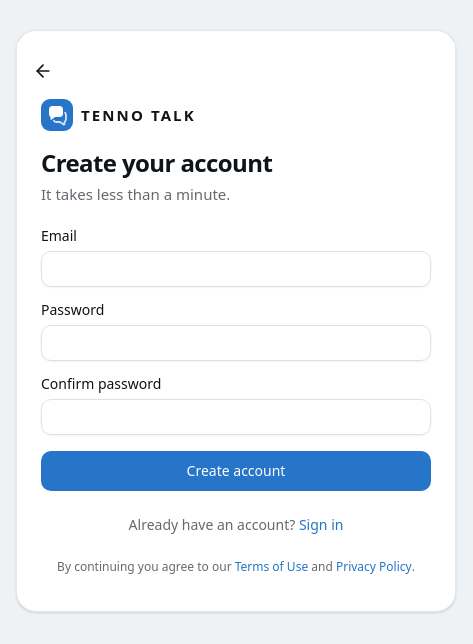
email + password › shows the server error for a duplicate email
Type "linh@demo.tenno.talk" into the field labelled "Email". click: {"x": 236, "y": 269}
box: [41,251,431,287]
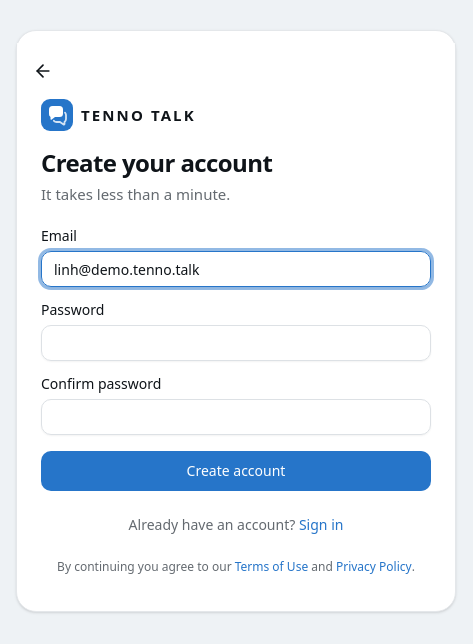
Type "secret123" into the password field labelled "Password". click: {"x": 236, "y": 343}
box: [41,325,431,361]
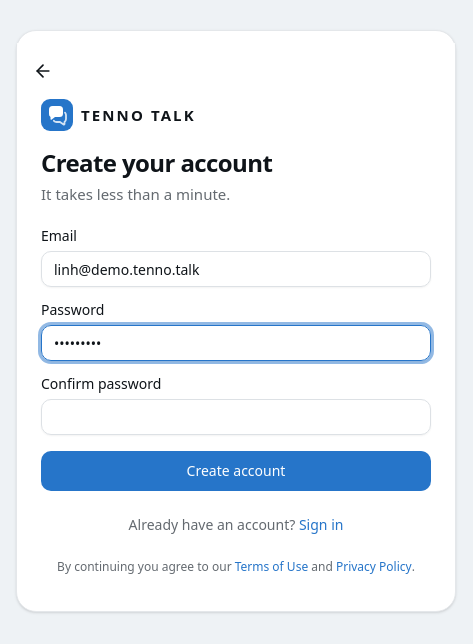
Type "secret123" into the password field labelled "Confirm password". click: {"x": 236, "y": 417}
box: [41,399,431,435]
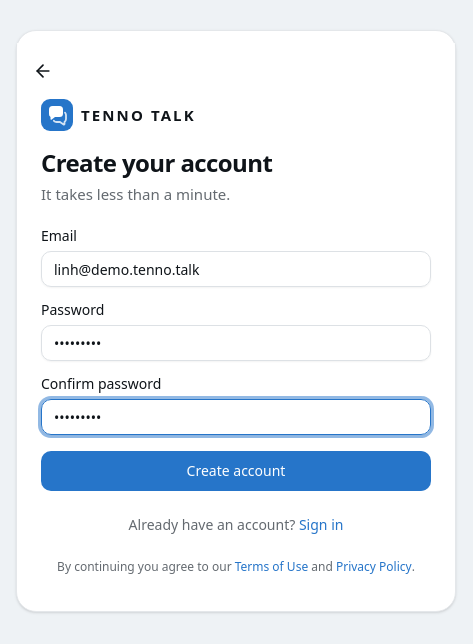
Click the button "Create account". click: {"x": 236, "y": 471}
box: [41,451,431,491]
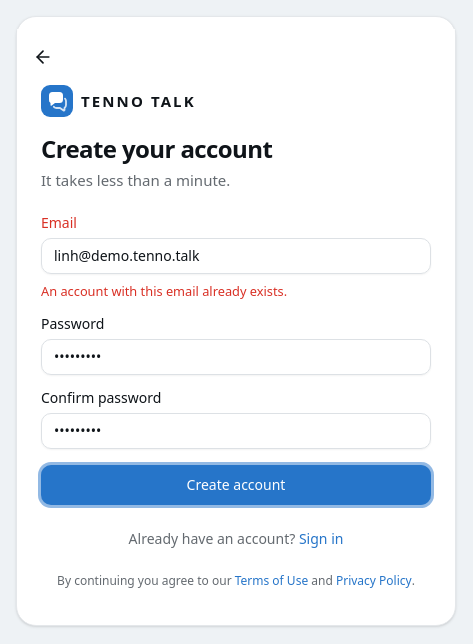
Check: the text "An account with this email already exists." is shown, box [41,282,287,300]
